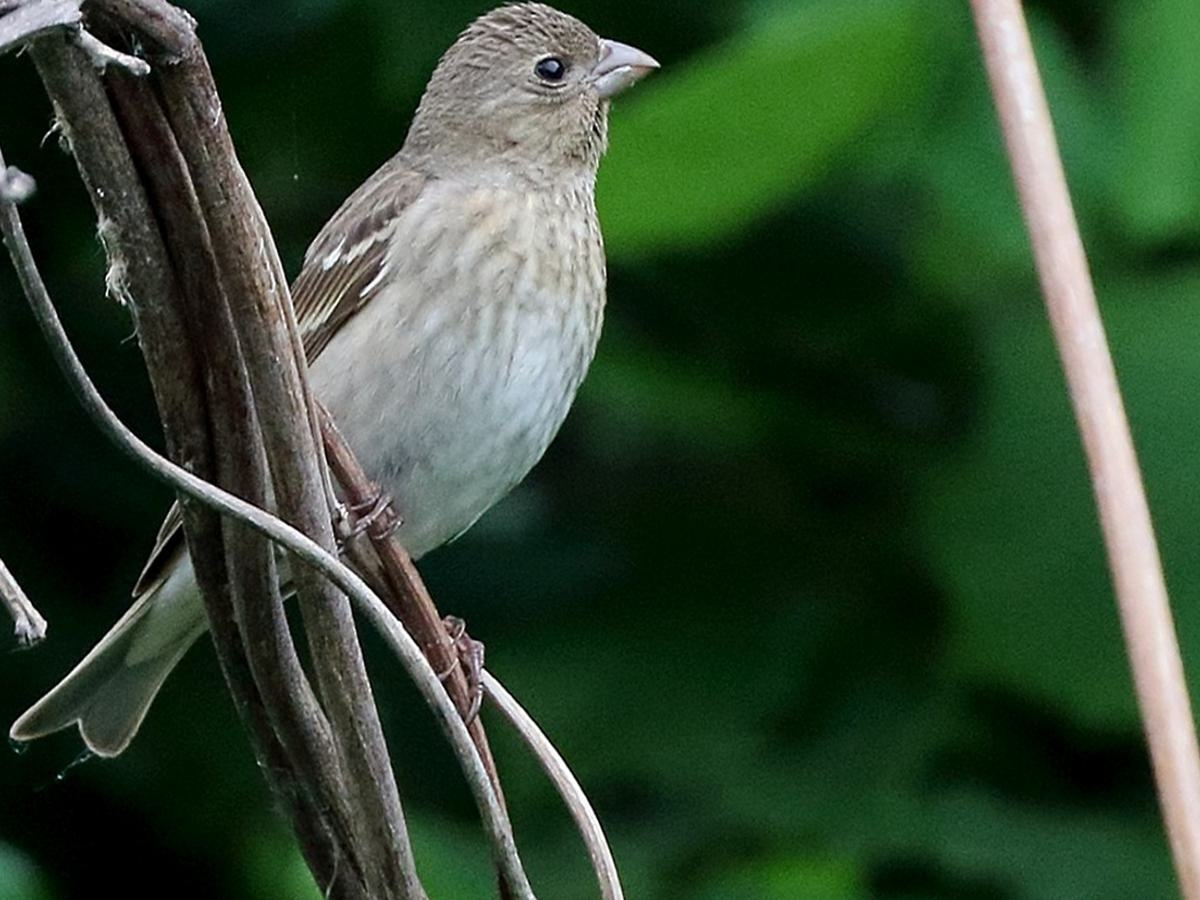rosefinch: (111, 14, 690, 666)
